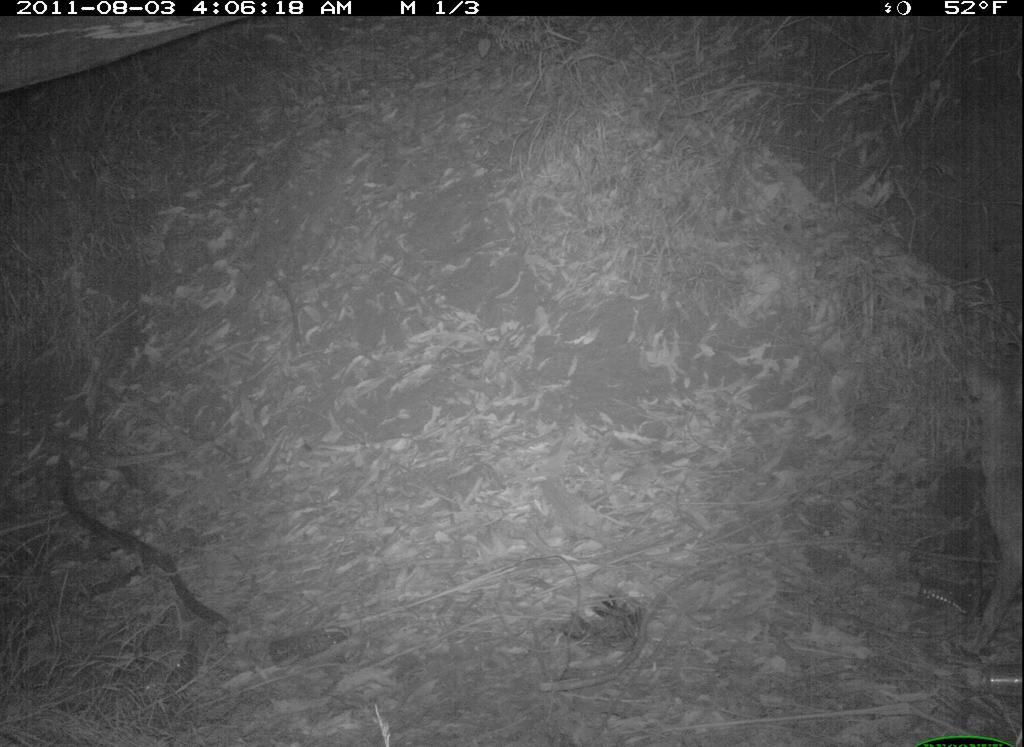coyote: (953, 359, 1021, 658)
